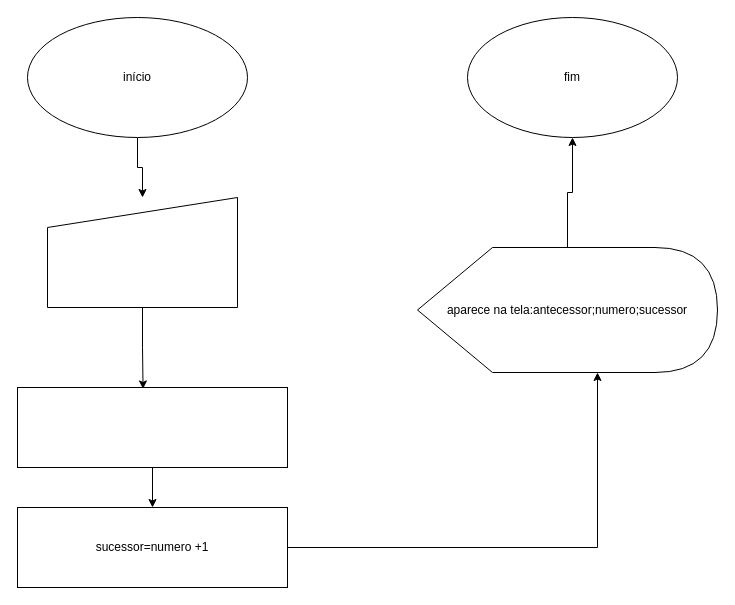
The diagram is 735 pixels wide and 605 high, and some of its shapes have lost their labels. Each missing label, with the centre of its shape:
"antecessor=numero-1" belongs at [152,427].
"insira um número" belongs at [142,252].
